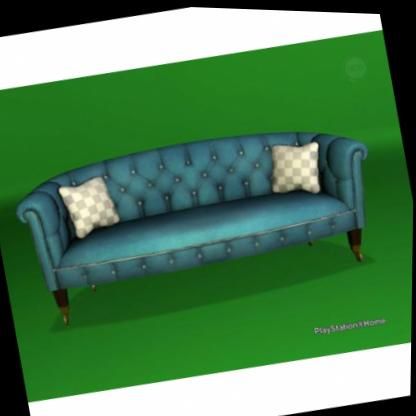Sofa: (10, 101, 392, 340)
